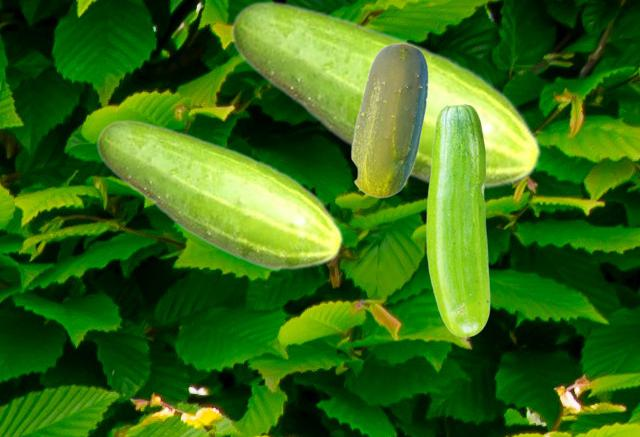cucumber: (230, 0, 541, 192), (96, 119, 343, 271), (426, 103, 489, 336), (350, 42, 427, 197)
